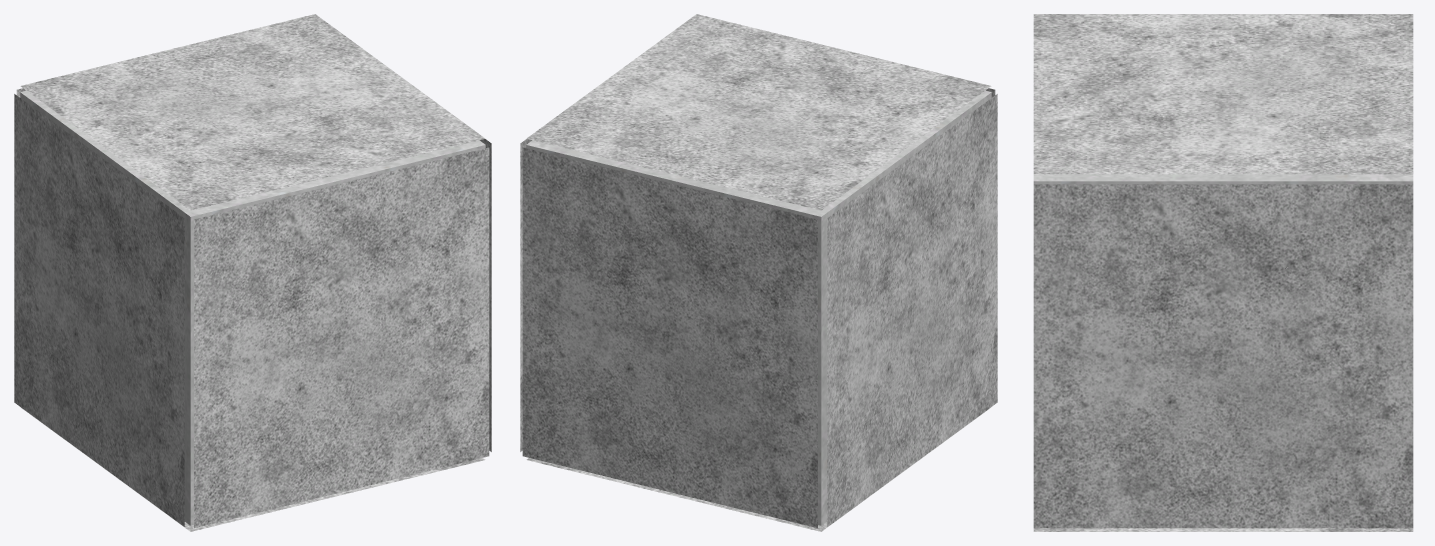
The model's file is coal.obj.
The picture shows the model from 3 angles, left to right: view 1: azimuth 30°, elevation 25°; view 2: azimuth 150°, elevation 25°; view 3: azimuth 270°, elevation 25°; orthographic projection. The views are drawn at different scales.
Visible parts, largest first — view 1: Coal5, Coal6, Coal3, Coal1, Coal7, Coal4; view 2: Coal2, Coal6, Coal3, Coal1, Coal7, Coal4; view 3: Coal4, Coal3, Coal1, Coal7.
Part boxes in pixels (x1,y1,x2,y2): Coal5: (194, 147, 489, 528); Coal6: (14, 94, 184, 526); Coal3: (20, 14, 485, 210); Coal1: (20, 90, 485, 525); Coal7: (21, 407, 485, 531); Coal4: (480, 139, 491, 451); Coal2: (522, 147, 817, 528); Coal6: (827, 94, 997, 526); Coal3: (526, 14, 991, 210); Coal1: (526, 90, 991, 525); Coal7: (526, 407, 990, 531); Coal4: (520, 139, 531, 451); Coal4: (1033, 184, 1413, 528); Coal3: (1033, 14, 1413, 174); Coal1: (1033, 174, 1413, 184); Coal7: (1033, 528, 1413, 531).
Size of the model in its own units: 1.04 by 1.04 by 1.04.
2 materials, 2 textured.
